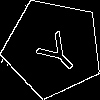Y: (28, 23, 84, 79)
